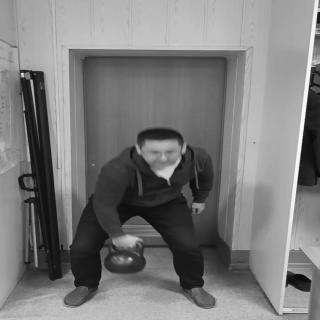girya: (107, 243, 147, 276)
